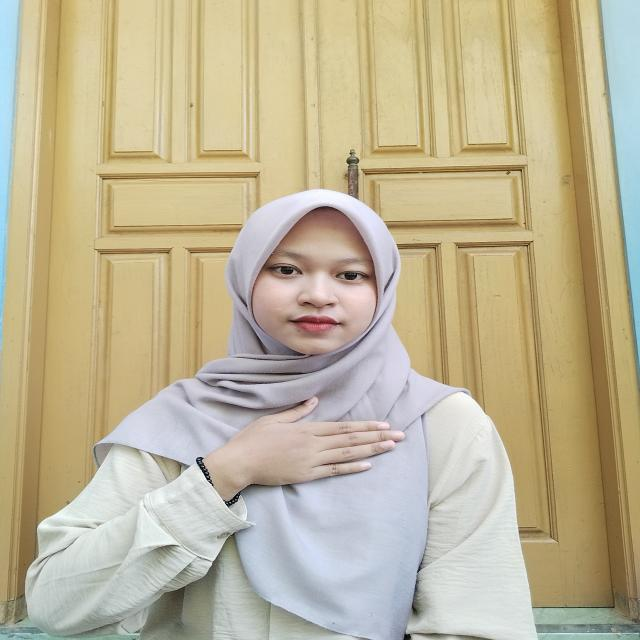tolong: (148, 396, 410, 516)
